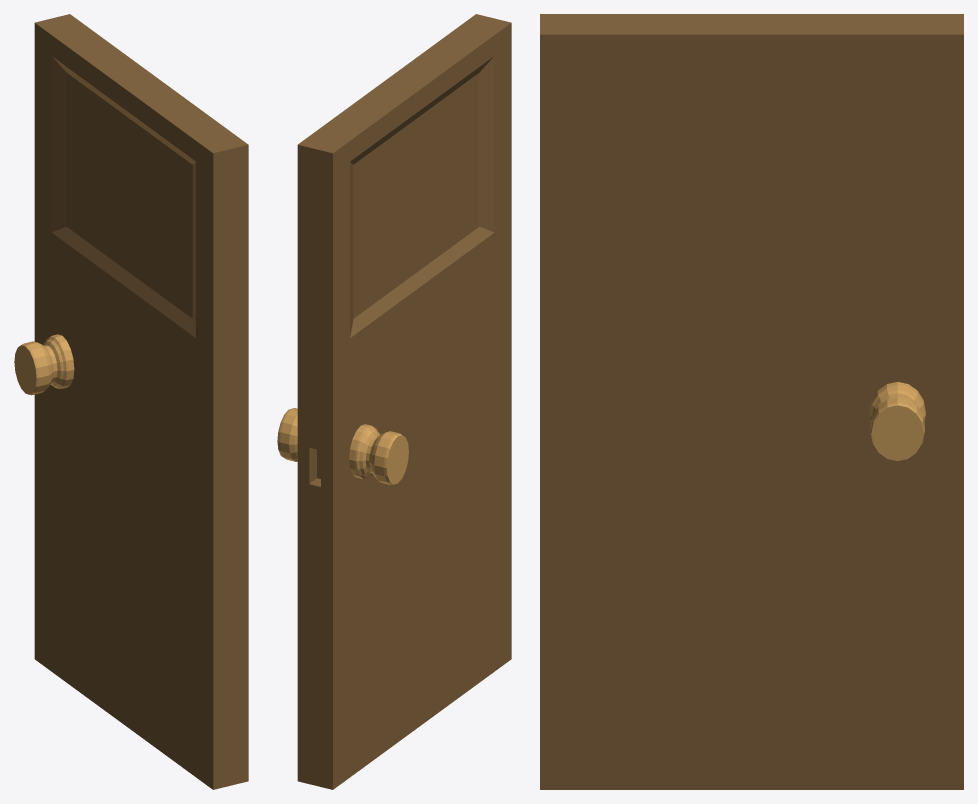
File: closet_door 1.fbx
The picture shows the model from 3 angles, left to right: view 1: azimuth 30°, elevation 25°; view 2: azimuth 150°, elevation 25°; view 3: azimuth 270°, elevation 25°; orthographic projection. The views are drawn at different scales.
Visible parts, largest first — view 1: Cube; view 2: Cube; view 3: Cube.
Boxes of the visible parts, bbox=[...] form: Cube: bbox=[14, 14, 248, 789]; Cube: bbox=[277, 14, 511, 789]; Cube: bbox=[540, 14, 963, 789].
Size of the model in its own units: 129 by 715 by 363.
